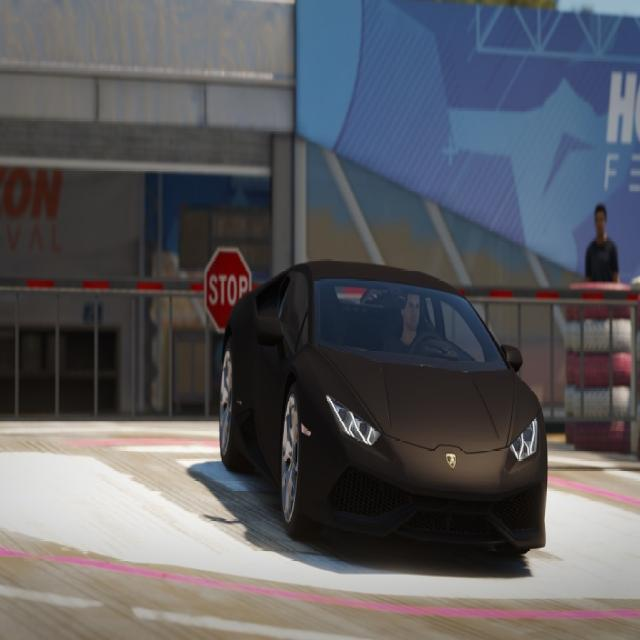Stop-sign: (202, 247, 252, 337)
